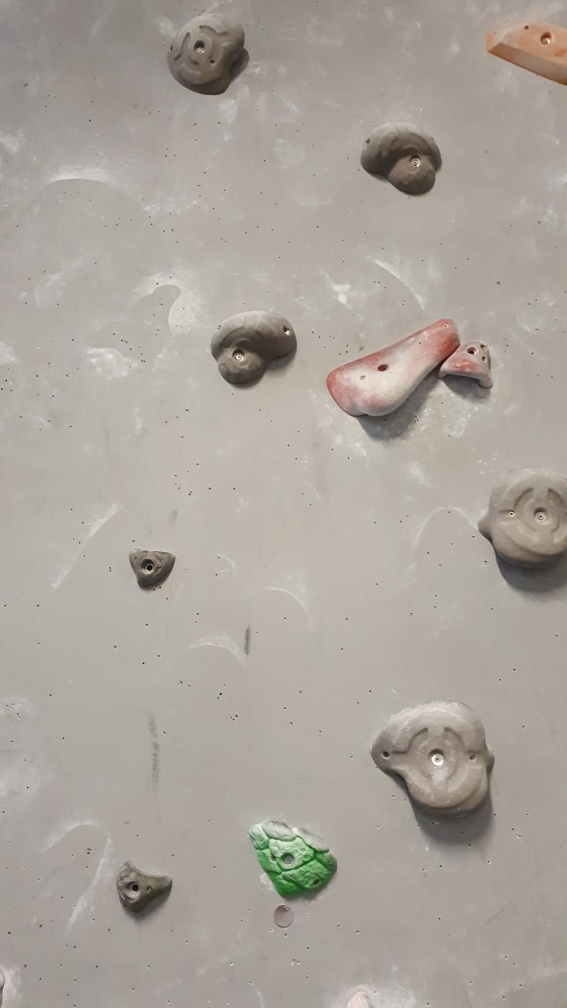Crimp: (129, 546, 178, 591)
Hand Start: (271, 900, 297, 928)
Jug: (371, 696, 498, 823), (478, 465, 567, 568), (208, 310, 300, 391), (165, 11, 247, 95), (359, 119, 445, 198)
